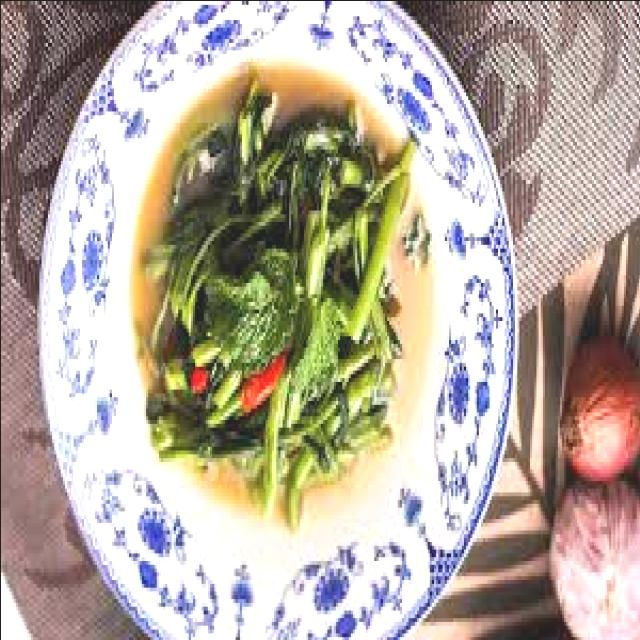tumis kangkung: (134, 80, 414, 530)
